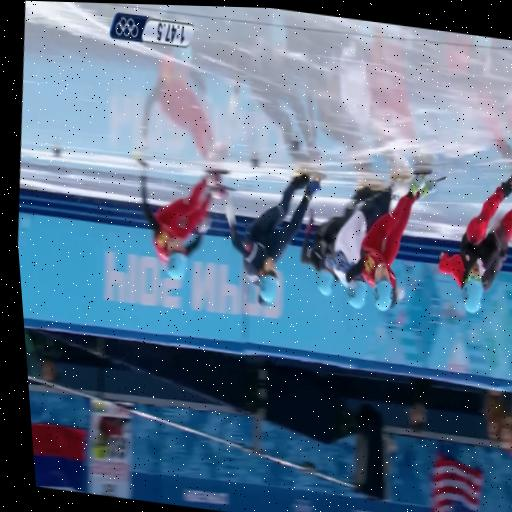Skater: (345, 173, 436, 310), (225, 172, 319, 301), (137, 159, 224, 278), (438, 175, 511, 312), (324, 186, 391, 308), (300, 186, 374, 295)
